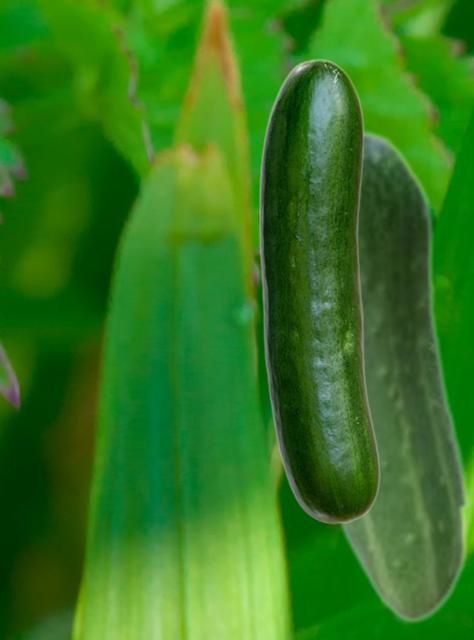cucumber: (334, 126, 470, 623), (258, 58, 379, 523)
